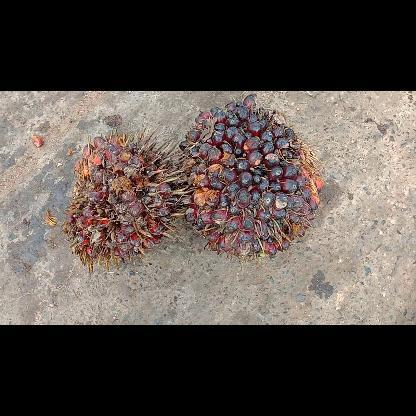Kurang masak: (172, 94, 324, 270)
TBS masak: (61, 127, 188, 272)
